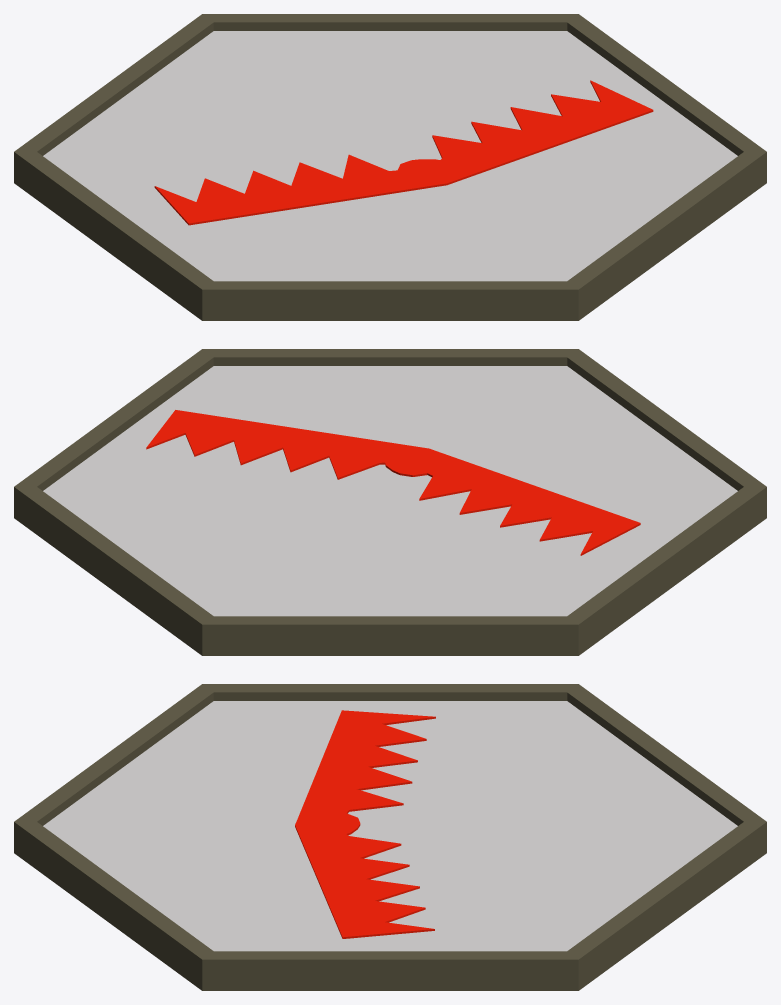
Rendered from TrapDice.fbx.
3 views of the same model, one above another, from view 1: azimuth 30°, elevation 25°; view 2: azimuth 150°, elevation 25°; view 3: azimuth 270°, elevation 25° (orthographic).
Visible parts, largest first — view 1: Trap; view 2: Trap; view 3: Trap.
Part boxes in pixels (<box>): Trap: <box>14,14,766,320</box>; Trap: <box>14,349,766,655</box>; Trap: <box>14,684,766,990</box>.
Size of the model in its own units: 314 by 17.3 by 363.
